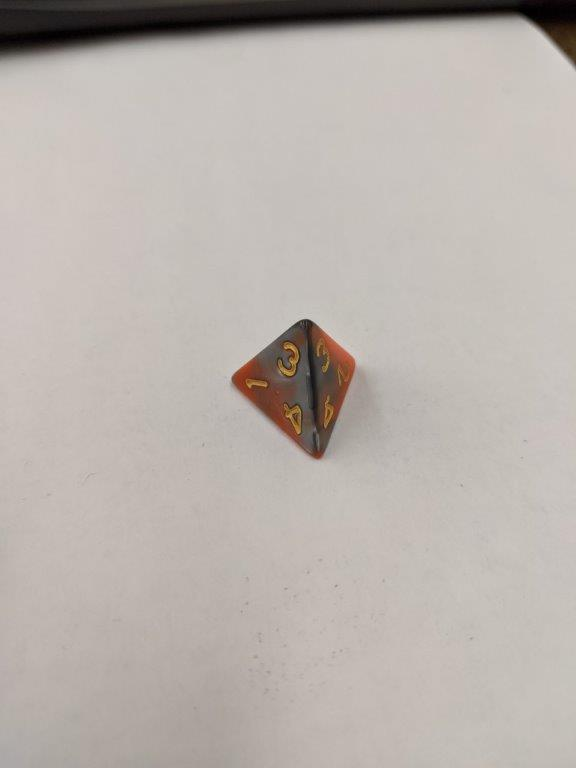d4-3: (227, 318, 361, 461)
